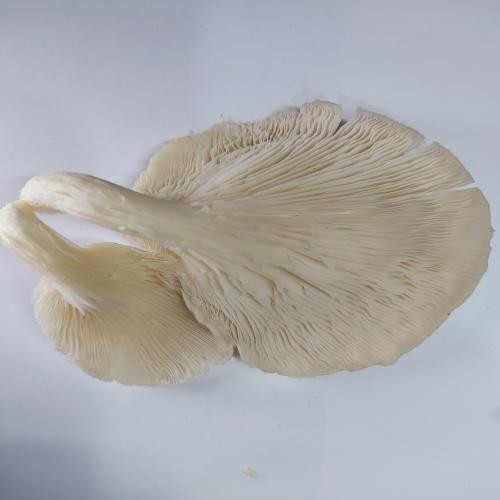Oyster Mushroom: (1, 99, 495, 387)
